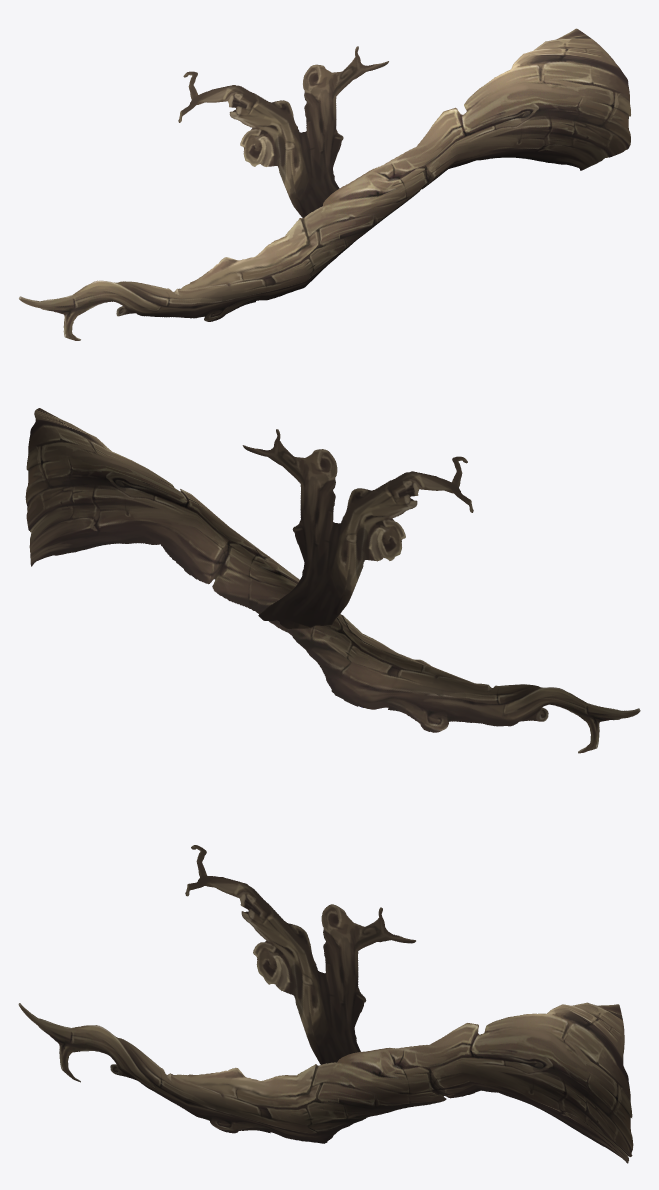
File: Branch Pt4.FBX
The picture shows the model from 3 angles, top to bottom: view 1: azimuth 30°, elevation 25°; view 2: azimuth 150°, elevation 25°; view 3: azimuth 330°, elevation 25°; orthographic projection. The views are drawn at different scales.
Visible parts, largest first — view 1: BTree Branch Pt4; view 2: BTree Branch Pt4; view 3: BTree Branch Pt4.
Boxes of the visible parts, <box> form: BTree Branch Pt4: <box>19,28,630,340</box>; BTree Branch Pt4: <box>25,408,640,753</box>; BTree Branch Pt4: <box>18,845,633,1163</box>.
Bounding box in the file's own units: 1525 × 120 × 699.
